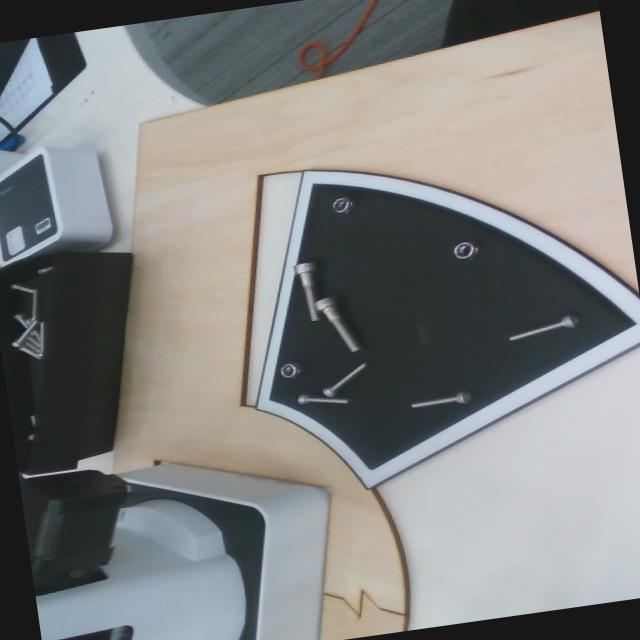big: (305, 287, 369, 364), (293, 253, 326, 327)
circle: (448, 233, 485, 261), (327, 190, 360, 218), (278, 357, 303, 380)
small: (501, 307, 583, 347), (317, 350, 374, 404), (405, 384, 477, 416), (291, 392, 353, 408)
